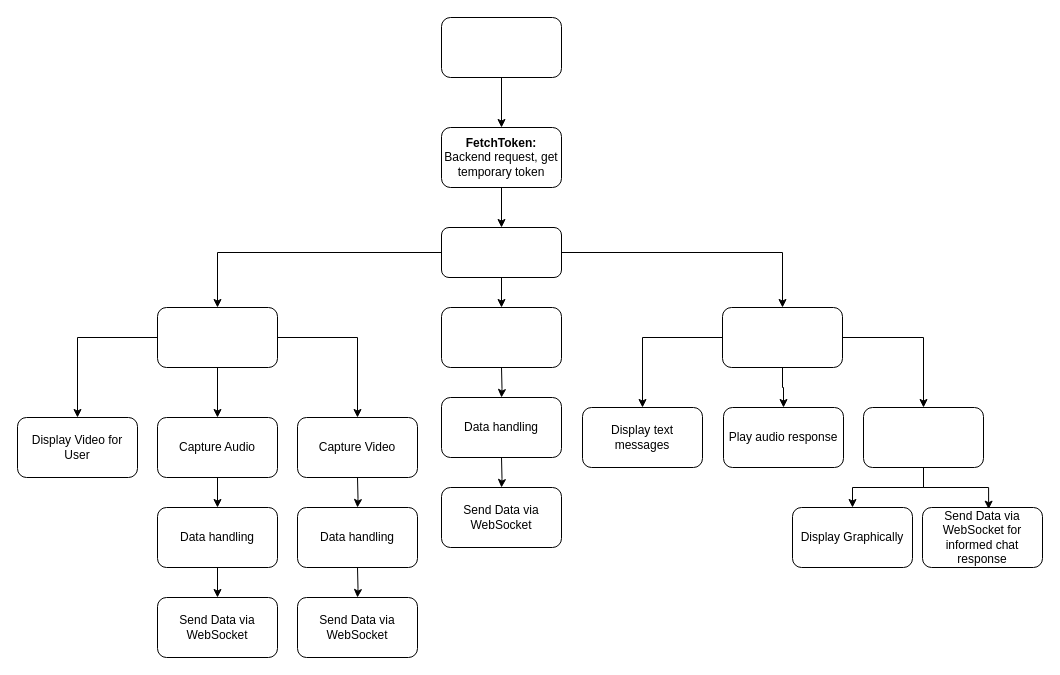
Image size: 1060x675. Some labels were removed from this diagram. The centre of each missing label's shape, as x and y in pixels:
App.js: program init. Home Screen.: (x=501, y=47)
Capture text input, string format: (x=501, y=337)
Get WebSocket output response: (x=782, y=337)
Stream and WebSocket: Initiate WebSocket: (x=501, y=252)
Stream Video/Audio: (x=217, y=337)
Unpack emotion data: (x=923, y=437)
